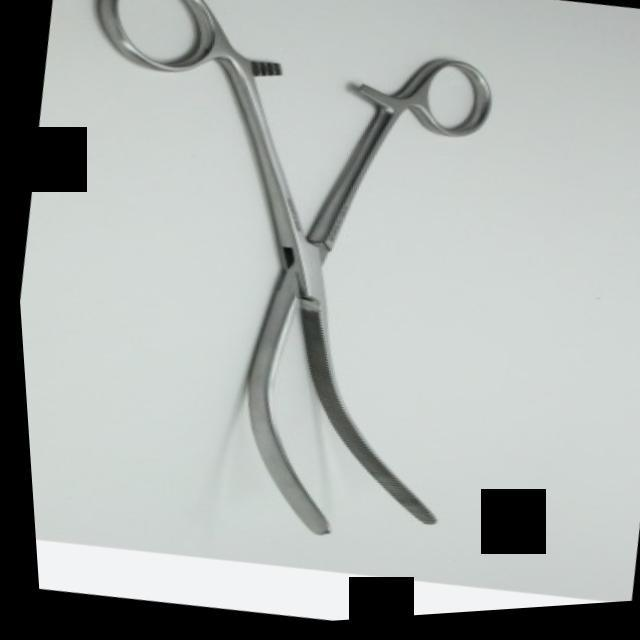Doyel Instestinal Forceps: (1, 0, 541, 579)
